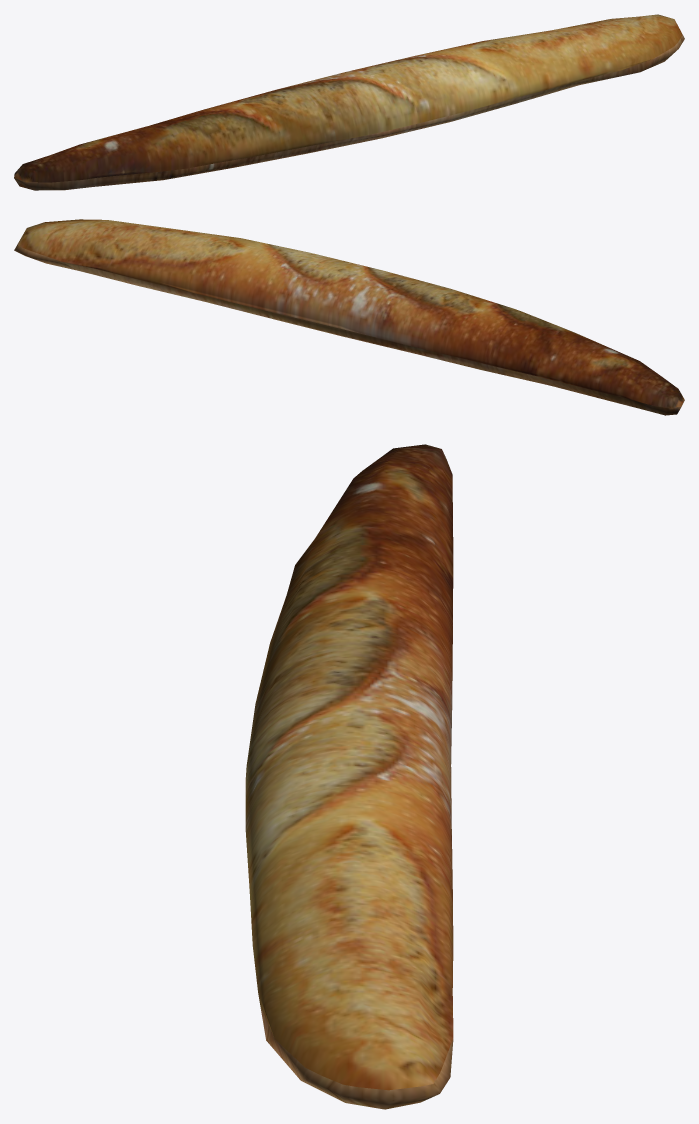
Rendered from bread.glb.
3 renders of one model, top to bottom at view 1: azimuth 30°, elevation 25°; view 2: azimuth 150°, elevation 25°; view 3: azimuth 270°, elevation 25°, orthographic. The views are drawn at different scales.
Parts seen in each view (by area): view 1: Object_3, Object_2; view 2: Object_3, Object_2; view 3: Object_3, Object_2.
Part boxes in pixels (x1,y1,x2,y2): Object_3: (14, 14, 682, 182); Object_2: (14, 34, 684, 190); Object_3: (18, 219, 684, 408); Object_2: (14, 243, 684, 415); Object_3: (245, 444, 453, 1090); Object_2: (245, 473, 453, 1109).
Size of the model in its own units: 54.69 by 4.07 by 7.52.
2 materials, 2 textured.
